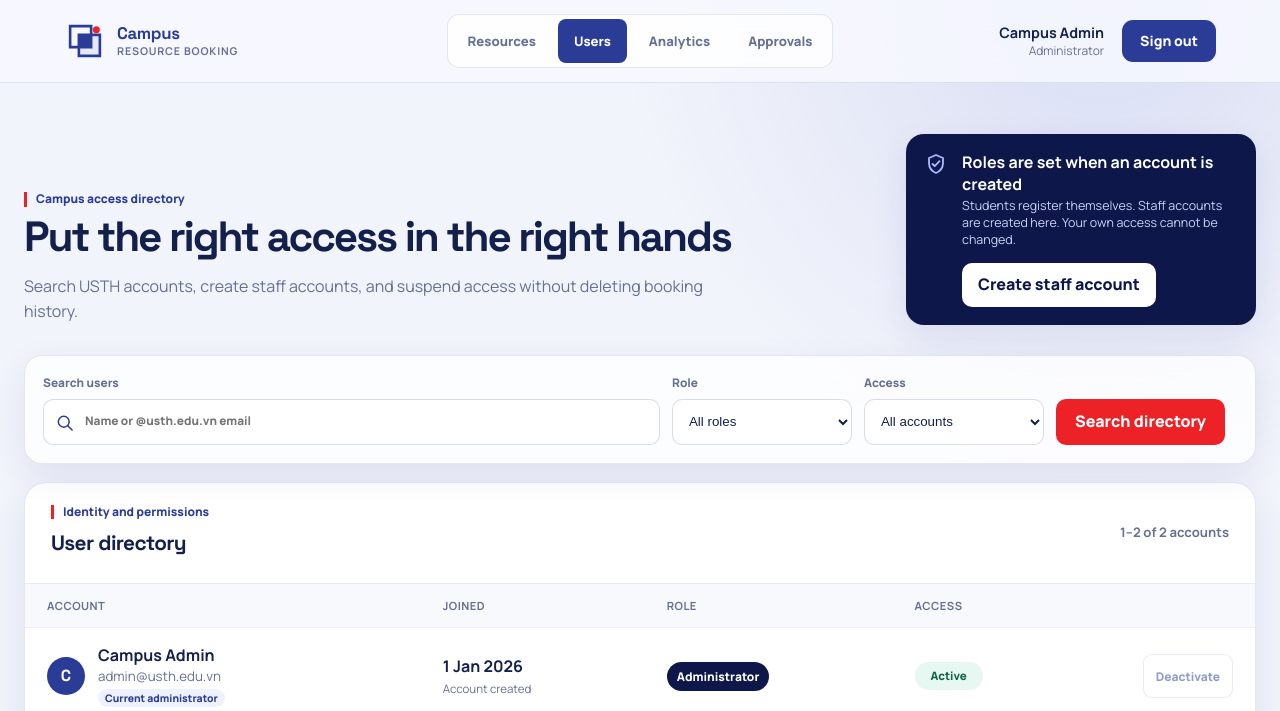
it: AdminUserManager › creates a staff account, announces it, and refreshes the directory
Click the button "Create staff account". click: [1059, 285]
box: [962,263,1156,307]
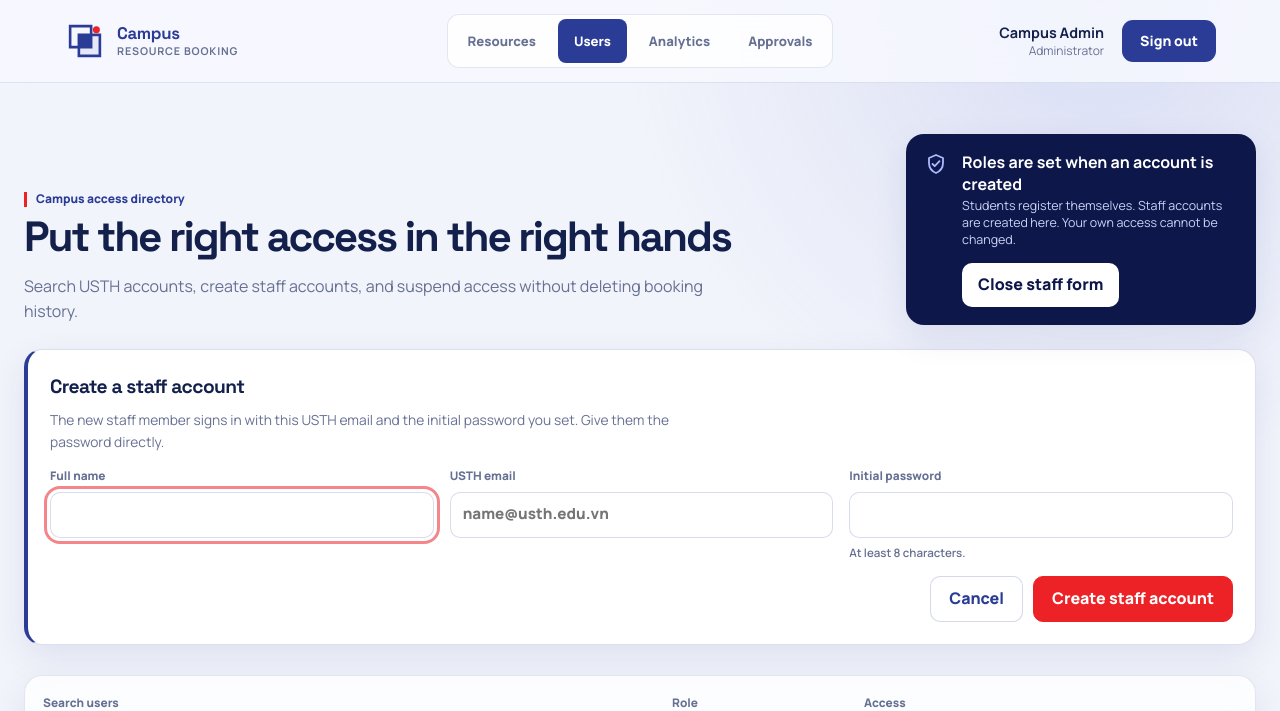
Now the button named "Create staff account" is expanded, box [962,263,1119,307]
Type "Lan Pham" into the field labelled "Full name". click: [242, 515]
box: [50,492,434,538]
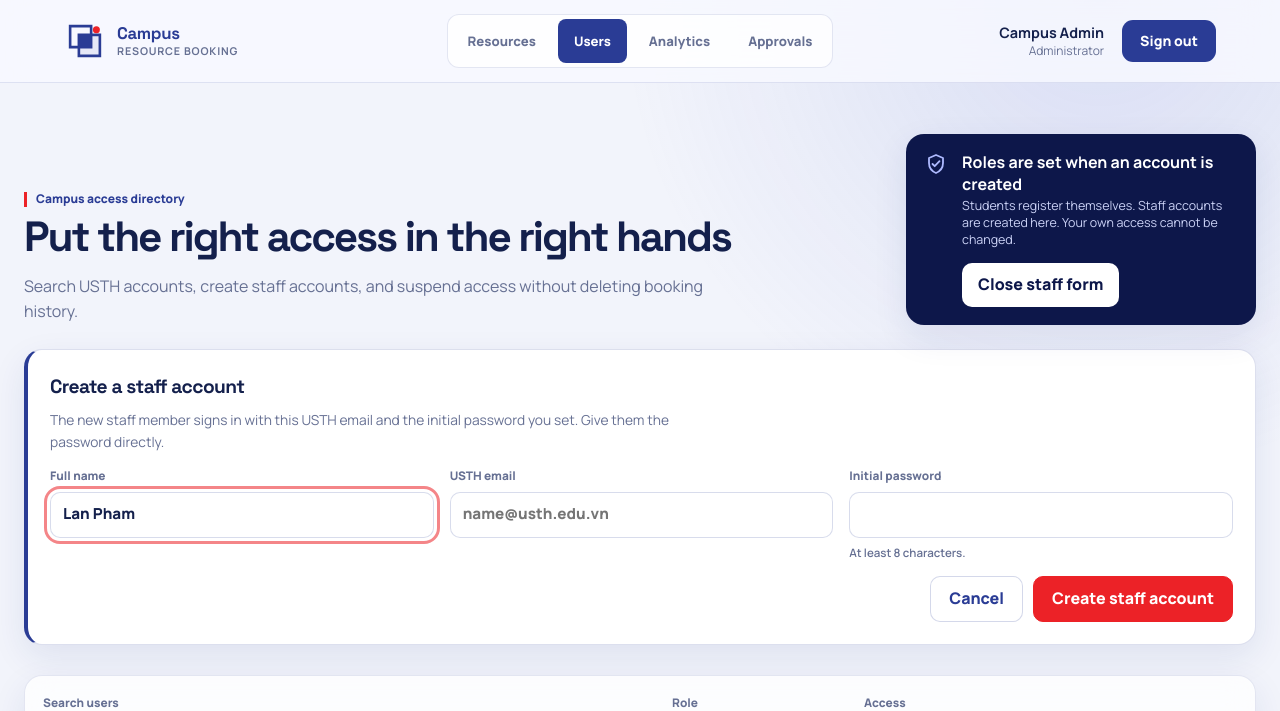
Type "lan.pham@usth.edu.vn" into the field labelled "USTH email". click: [642, 515]
box: [450,492,833,538]
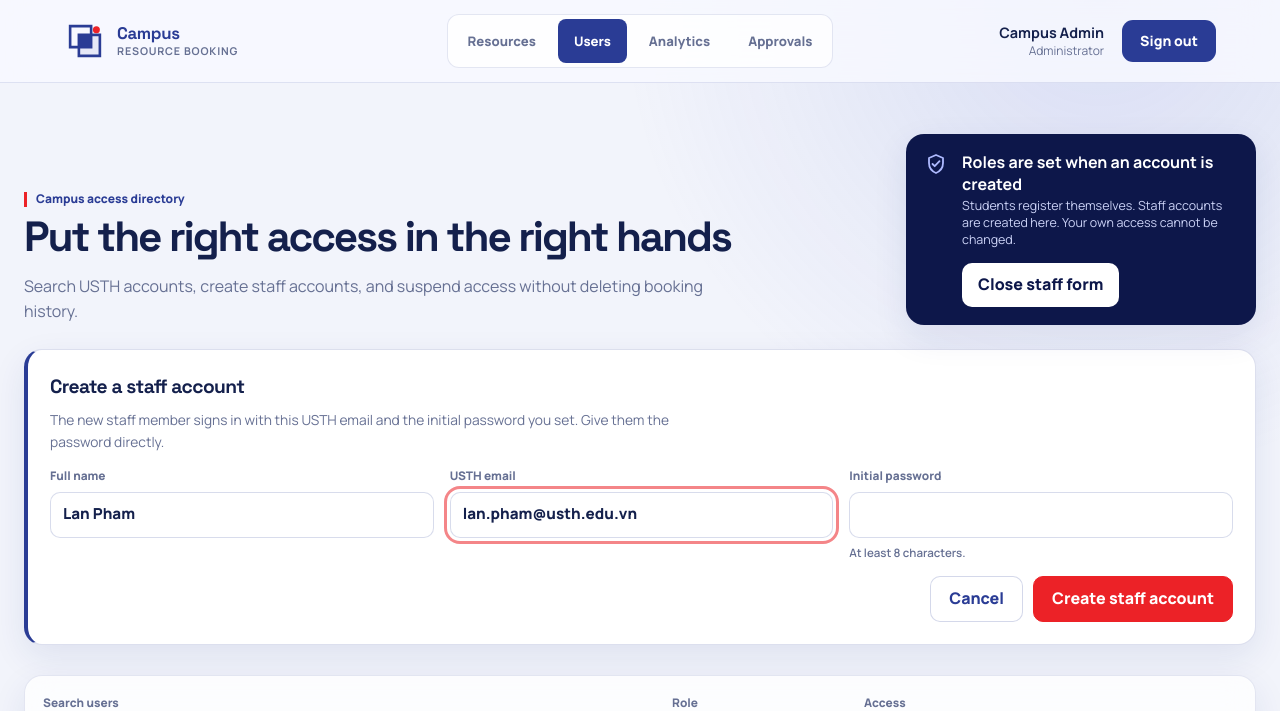
Type "initial-pass" into the password field labelled "Initial password". click: [1041, 515]
box: [849,492,1233,538]
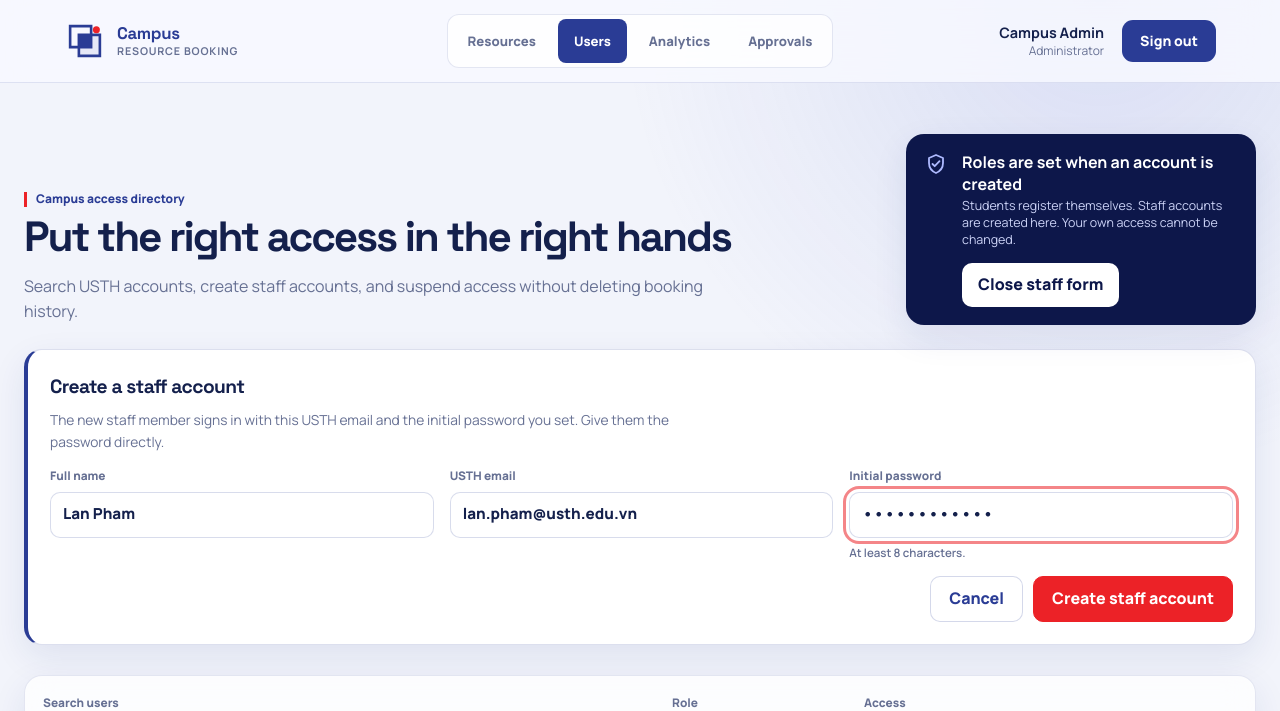
Click the button "Create staff account". click: [1133, 599]
box: [1033,576,1233,622]
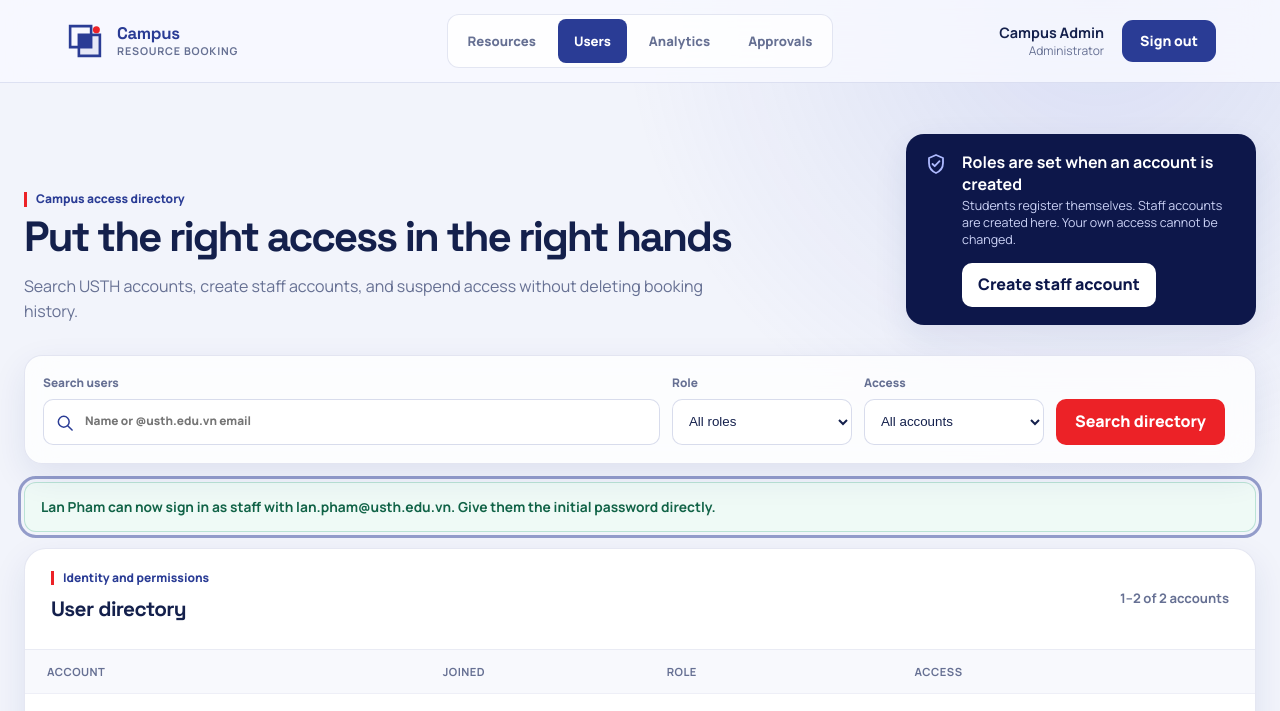
Now the message shows "Lan Pham can now sign in as staff", box [41,497,716,516]
Now the heading "Create a staff account" is gone
